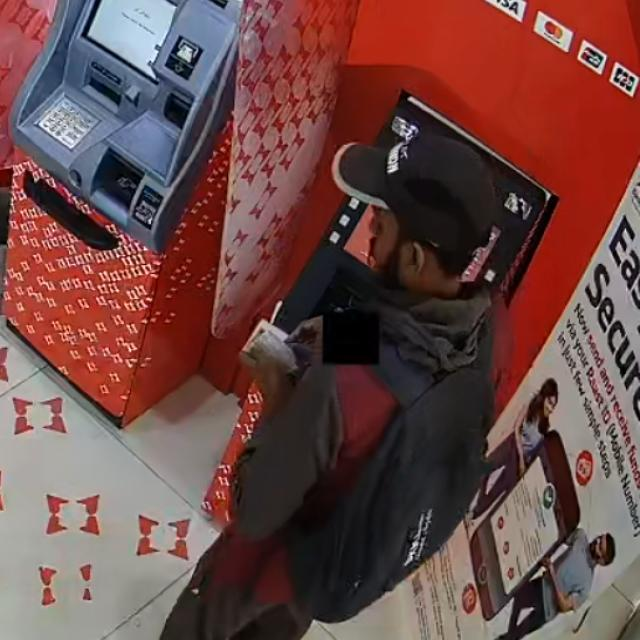note: (234, 306, 312, 384)
